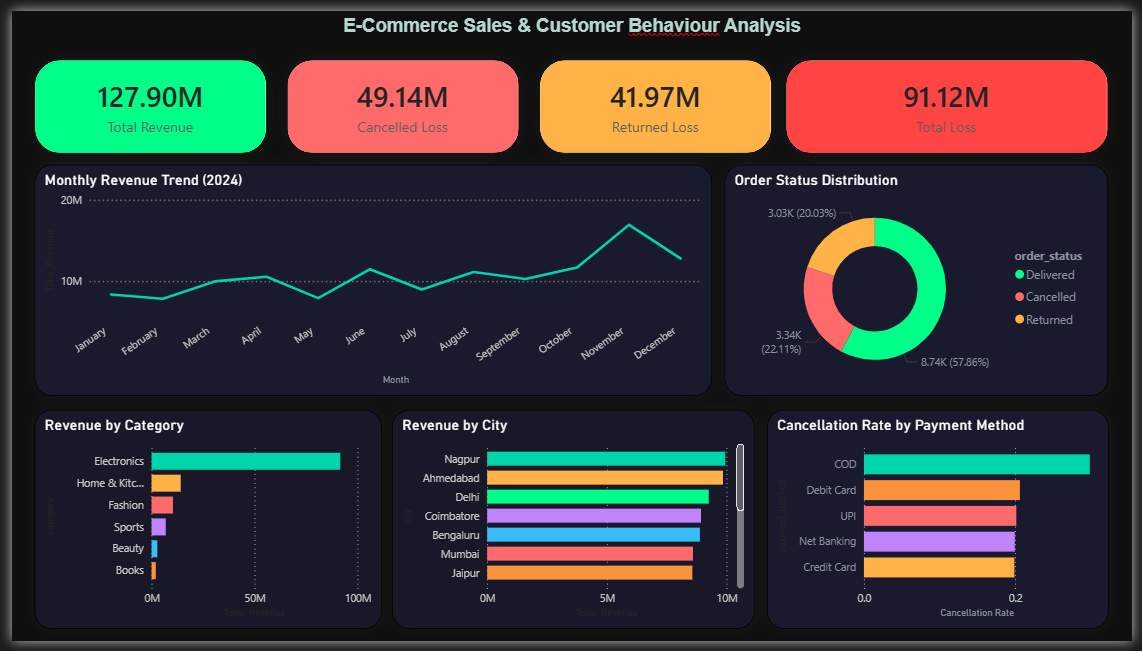

What the dashboard file says about the page in this screenshot:
{"tool":"powerbi","page":{"name":"Page 1","canvas":[1280,720],"ordinal":0},"visuals":[{"type":"cardVisual","fields":{"Data":["Ecommerce_Orders_15104.Total_Revenue"]},"box":[25.7,55.7,265.7,107.1],"z":0},{"type":"textbox","box":[0,0,1280,38.6],"z":1000},{"type":"cardVisual","fields":{"Data":["Ecommerce_Orders_15104.Total Loss"]},"box":[884.3,55.7,368.6,107.1],"z":2000},{"type":"cardVisual","fields":{"Data":["Ecommerce_Orders_15104.Returned Loss"]},"box":[602.9,55.7,265.7,107.1],"z":3000},{"type":"cardVisual","fields":{"Data":["Ecommerce_Orders_15104.Cancelled Loss"]},"box":[314.3,55.7,265.7,107.1],"z":4000},{"type":"lineChart","title":"Monthly Revenue Trend (2024)","fields":{"Category":["Ecommerce_Orders_15104.order_date.Variation.Date Hierarchy.Month"],"Y":["Ecommerce_Orders_15104.Total_Revenue"]},"box":[25.7,175.7,774.3,264.3],"z":5000},{"type":"donutChart","title":"Order Status Distribution","fields":{"Category":["Ecommerce_Orders_15104.order_status"],"Y":["CountNonNull(Ecommerce_Orders_15104.order_id)"]},"box":[814.3,175.7,438.6,264.3],"z":6000},{"type":"clusteredBarChart","title":"Revenue by Category","fields":{"Category":["Ecommerce_Orders_15104.category"],"Y":["Ecommerce_Orders_15104.Total_Revenue"]},"box":[25.7,455.7,397.1,250],"z":7000},{"type":"clusteredBarChart","title":"Cancellation Rate by Payment Method","fields":{"Category":["Ecommerce_Orders_15104.payment_method"],"Y":["Ecommerce_Orders_15104.Cancellation Rate"]},"box":[862.9,455.7,390,250],"z":8000},{"type":"clusteredBarChart","title":"Revenue by City","fields":{"Category":["Ecommerce_Orders_15104.city"],"Y":["Ecommerce_Orders_15104.Total_Revenue"]},"box":[434.3,455.7,414.3,250],"z":9000}]}

Visuals, with their boxes in screenshot pixels (x1, y1, x2, y2), scaled from the page's 1280x720 canvas onto the 1142x651 screenshot:
cardVisual - Ecommerce_Orders_15104.Total_Revenue: select_region(23, 50, 260, 147)
textbox: select_region(0, 0, 1141, 35)
cardVisual - Ecommerce_Orders_15104.Total Loss: select_region(789, 50, 1118, 147)
cardVisual - Ecommerce_Orders_15104.Returned Loss: select_region(538, 50, 775, 147)
cardVisual - Ecommerce_Orders_15104.Cancelled Loss: select_region(280, 50, 517, 147)
"Monthly Revenue Trend (2024)" lineChart: select_region(23, 159, 714, 398)
"Order Status Distribution" donutChart: select_region(727, 159, 1118, 398)
"Revenue by Category" clusteredBarChart: select_region(23, 412, 377, 638)
"Cancellation Rate by Payment Method" clusteredBarChart: select_region(770, 412, 1118, 638)
"Revenue by City" clusteredBarChart: select_region(387, 412, 757, 638)
